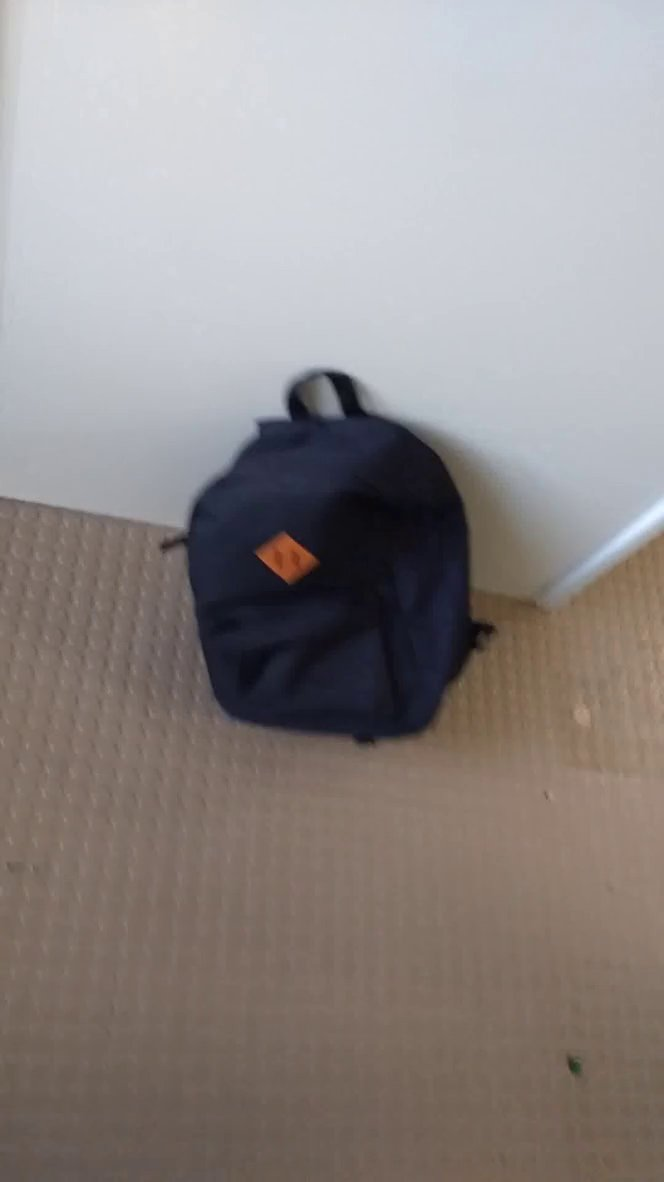bag: (132, 357, 518, 801)
